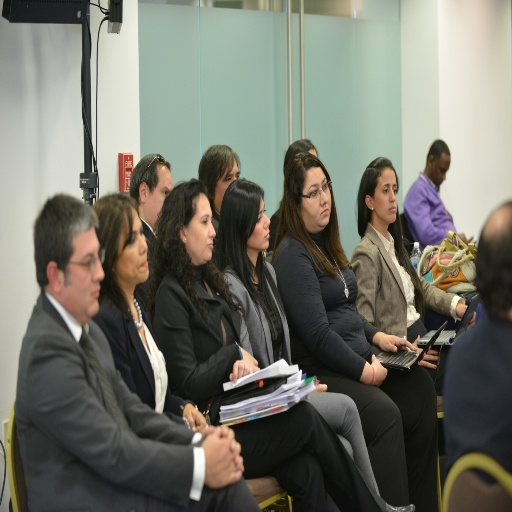hand: (199, 424, 243, 492), (204, 424, 245, 473), (411, 333, 438, 370), (378, 332, 417, 353), (370, 353, 389, 389), (228, 358, 254, 384), (182, 402, 206, 429), (239, 345, 259, 368), (457, 305, 477, 327)
